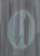Two way: (4, 4, 34, 55)
